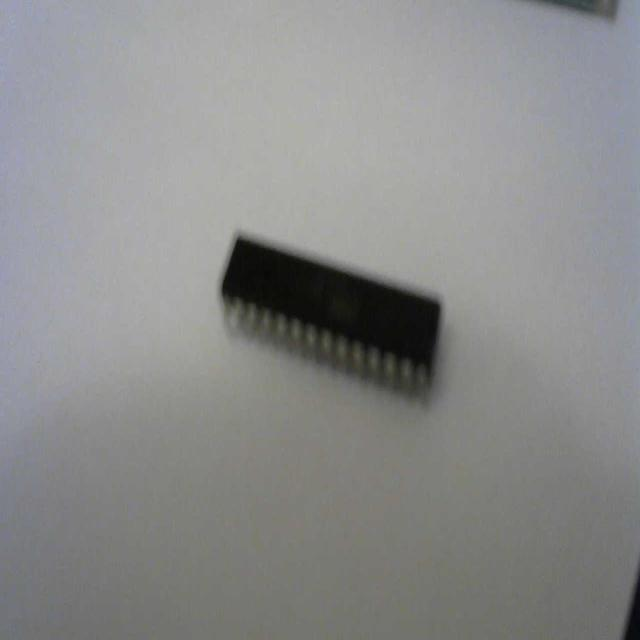atmega: (217, 228, 445, 406)
